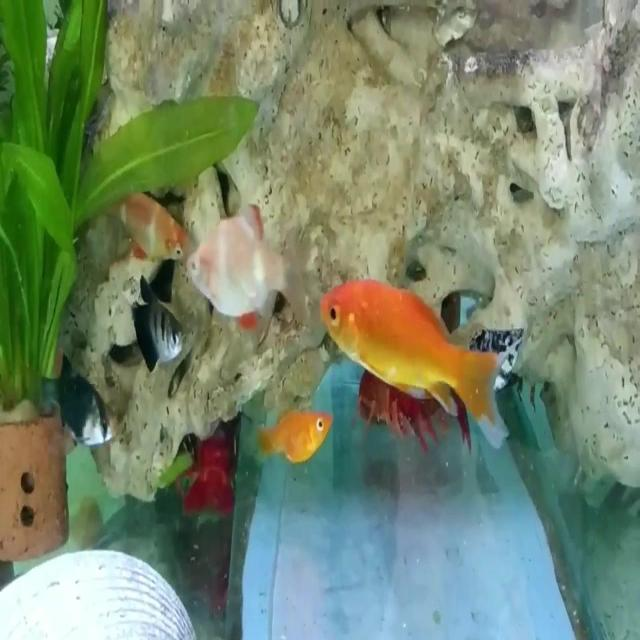GoldFish: (318, 275, 505, 476)
